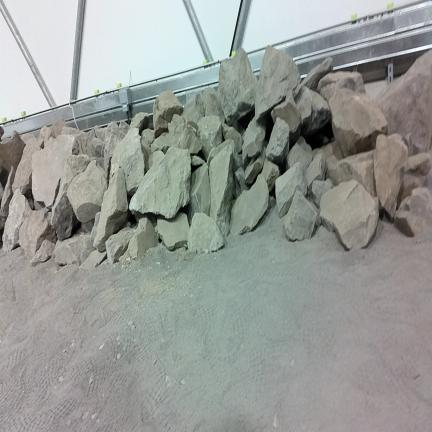Rock: (376, 50, 431, 151), (130, 148, 191, 225), (51, 155, 104, 240), (320, 180, 378, 249), (330, 89, 387, 156), (32, 135, 78, 210), (255, 46, 300, 119), (219, 49, 256, 125), (94, 169, 128, 251), (374, 135, 407, 217), (109, 128, 145, 196), (67, 161, 107, 222), (231, 175, 268, 234), (329, 151, 375, 196), (210, 147, 233, 236), (20, 210, 56, 259), (395, 188, 431, 236), (13, 138, 43, 194), (276, 163, 307, 217), (297, 88, 331, 136), (3, 191, 30, 251), (284, 191, 317, 240), (188, 213, 223, 253), (153, 91, 183, 137), (168, 115, 202, 154), (318, 72, 365, 100), (127, 217, 158, 259), (271, 96, 300, 139), (55, 235, 94, 265), (104, 122, 125, 177), (158, 213, 189, 250), (300, 57, 333, 91), (266, 118, 290, 163), (190, 164, 210, 218), (207, 140, 242, 170), (198, 116, 222, 159), (0, 131, 25, 171), (106, 228, 134, 263), (243, 118, 265, 161), (0, 167, 15, 229), (398, 173, 425, 207), (313, 141, 342, 172), (202, 88, 224, 123), (306, 154, 326, 190), (245, 148, 265, 184), (287, 142, 312, 170), (182, 93, 205, 123), (31, 240, 55, 265), (311, 179, 332, 207), (222, 124, 243, 152), (406, 153, 431, 176), (297, 89, 311, 129), (262, 159, 279, 191), (404, 133, 425, 156), (234, 168, 249, 198), (81, 251, 106, 269), (151, 133, 172, 153), (76, 132, 93, 156), (130, 113, 148, 134), (141, 137, 152, 171), (90, 211, 100, 242), (50, 119, 66, 138), (149, 151, 164, 169), (39, 126, 53, 145), (297, 137, 312, 153), (92, 138, 104, 157), (141, 129, 154, 146), (0, 166, 9, 187), (94, 126, 106, 141), (61, 126, 80, 135), (81, 220, 94, 233), (191, 155, 205, 166), (119, 120, 129, 135), (268, 195, 276, 211), (87, 128, 96, 139), (120, 221, 130, 230), (0, 183, 4, 203), (28, 198, 34, 209), (0, 126, 4, 141)
